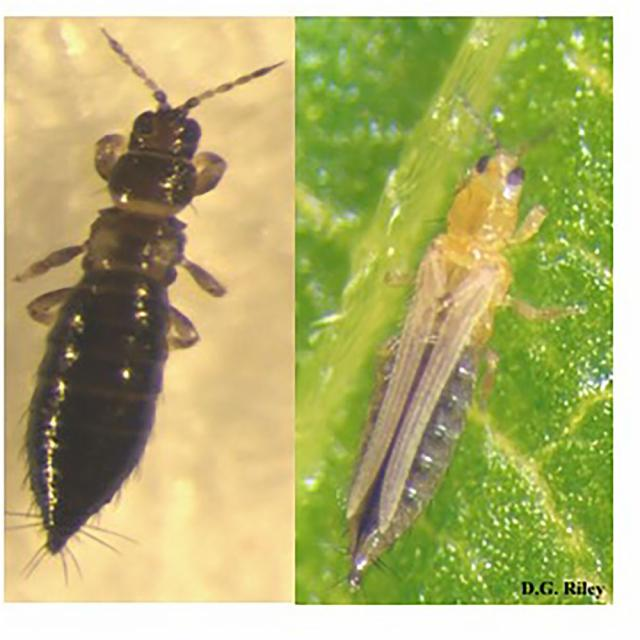Thrip-Adult-: (35, 30, 278, 567), (318, 121, 576, 588)
